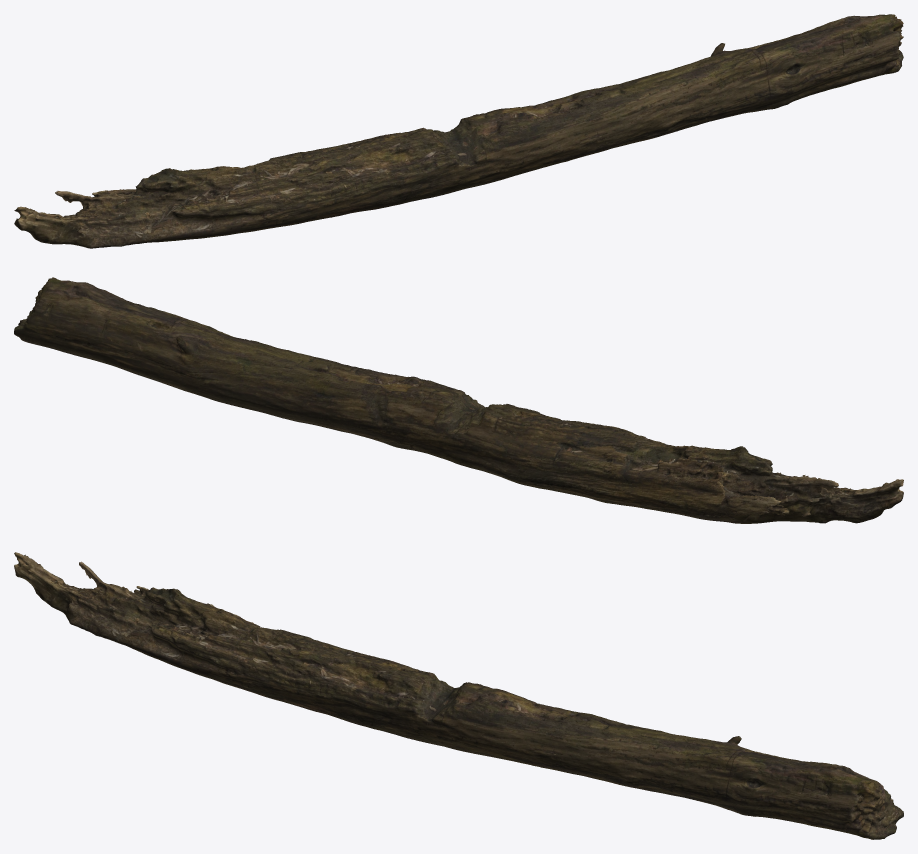
The model's file is dead_tree_trunk_1k.glb.
The picture shows the model from 3 angles, top to bottom: view 1: azimuth 30°, elevation 25°; view 2: azimuth 150°, elevation 25°; view 3: azimuth 330°, elevation 25°; orthographic projection.
Parts seen in each view (by area): view 1: dead_tree_trunk; view 2: dead_tree_trunk; view 3: dead_tree_trunk.
Boxes of the visible parts, x1,y1,x2,y2 form: dead_tree_trunk: (14, 14, 903, 248); dead_tree_trunk: (14, 277, 903, 523); dead_tree_trunk: (14, 552, 903, 839).
Bounding box in the file's own units: 3.05 × 0.2904 × 0.2775.
Materials: 1 (1 with a texture image).
